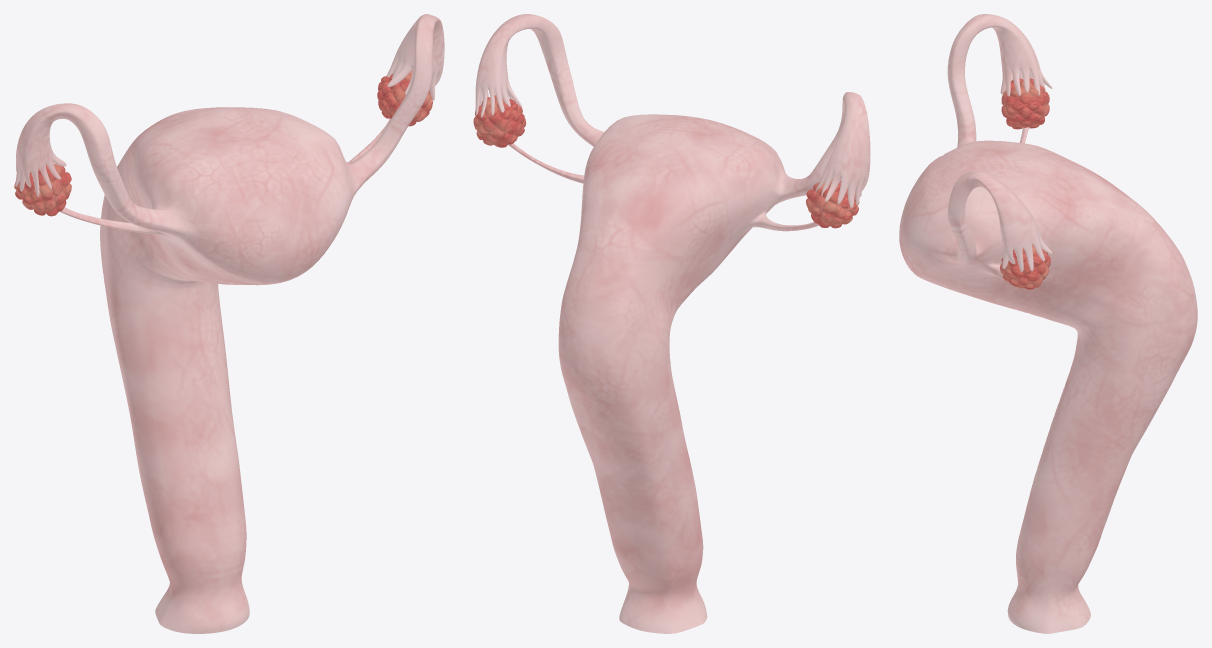
The picture shows the model from 3 angles, left to right: view 1: azimuth 30°, elevation 25°; view 2: azimuth 150°, elevation 25°; view 3: azimuth 270°, elevation 25°; orthographic projection. The views are drawn at different scales.
Parts seen in each view (by area): view 1: Object_4, Object_2, Object_3; view 2: Object_4, Object_3, Object_2; view 3: Object_4, Object_2, Object_3.
Part boxes in pixels (x1=…): Object_4: x1=15, y1=14, x2=444, y2=633; Object_2: x1=14, y1=163, x2=71, y2=216; Object_3: x1=377, y1=70, x2=432, y2=126; Object_4: x1=475, y1=14, x2=870, y2=633; Object_3: x1=473, y1=95, x2=526, y2=147; Object_2: x1=806, y1=179, x2=859, y2=228; Object_4: x1=899, y1=14, x2=1197, y2=633; Object_2: x1=1001, y1=78, x2=1049, y2=129; Object_3: x1=1000, y1=244, x2=1050, y2=289.
Bounding box in the file's own units: 4.38 × 5.76 × 2.98.
2 materials, 2 textured.
